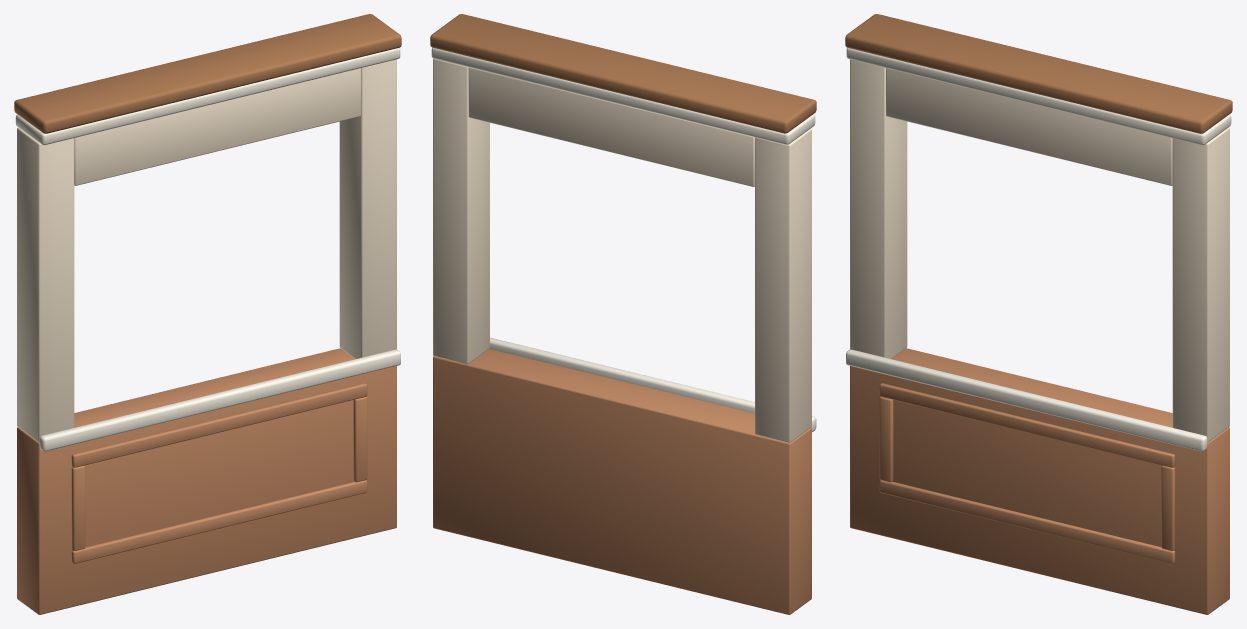
File: wall-window.glb
3 renders of one model, left to right at view 1: azimuth 30°, elevation 25°; view 2: azimuth 150°, elevation 25°; view 3: azimuth 330°, elevation 25°, orthographic.
Visible parts, largest first — view 1: ShellWallWindow_LowerWainscot, ShellWallWindow_Upper, ShellWallWindow_Coping, ShellWallWindow_ChairRail; view 2: ShellWallWindow_LowerWainscot, ShellWallWindow_Upper, ShellWallWindow_Coping, ShellWallWindow_ChairRail; view 3: ShellWallWindow_LowerWainscot, ShellWallWindow_Upper, ShellWallWindow_Coping, ShellWallWindow_ChairRail.
Boxes of the visible parts, left/top/right/bottom form: ShellWallWindow_LowerWainscot: left=17, top=348, right=396, bottom=614; ShellWallWindow_Upper: left=17, top=59, right=396, bottom=442; ShellWallWindow_Coping: left=14, top=14, right=401, bottom=133; ShellWallWindow_ChairRail: left=15, top=48, right=400, bottom=451; ShellWallWindow_LowerWainscot: left=433, top=349, right=811, bottom=614; ShellWallWindow_Upper: left=433, top=58, right=811, bottom=442; ShellWallWindow_Coping: left=430, top=14, right=816, bottom=133; ShellWallWindow_ChairRail: left=431, top=47, right=816, bottom=431; ShellWallWindow_LowerWainscot: left=850, top=348, right=1229, bottom=614; ShellWallWindow_Upper: left=850, top=59, right=1229, bottom=442; ShellWallWindow_Coping: left=845, top=14, right=1232, bottom=133; ShellWallWindow_ChairRail: left=846, top=48, right=1231, bottom=451.
Size of the model in its own units: 2 by 2.65 by 0.304.
